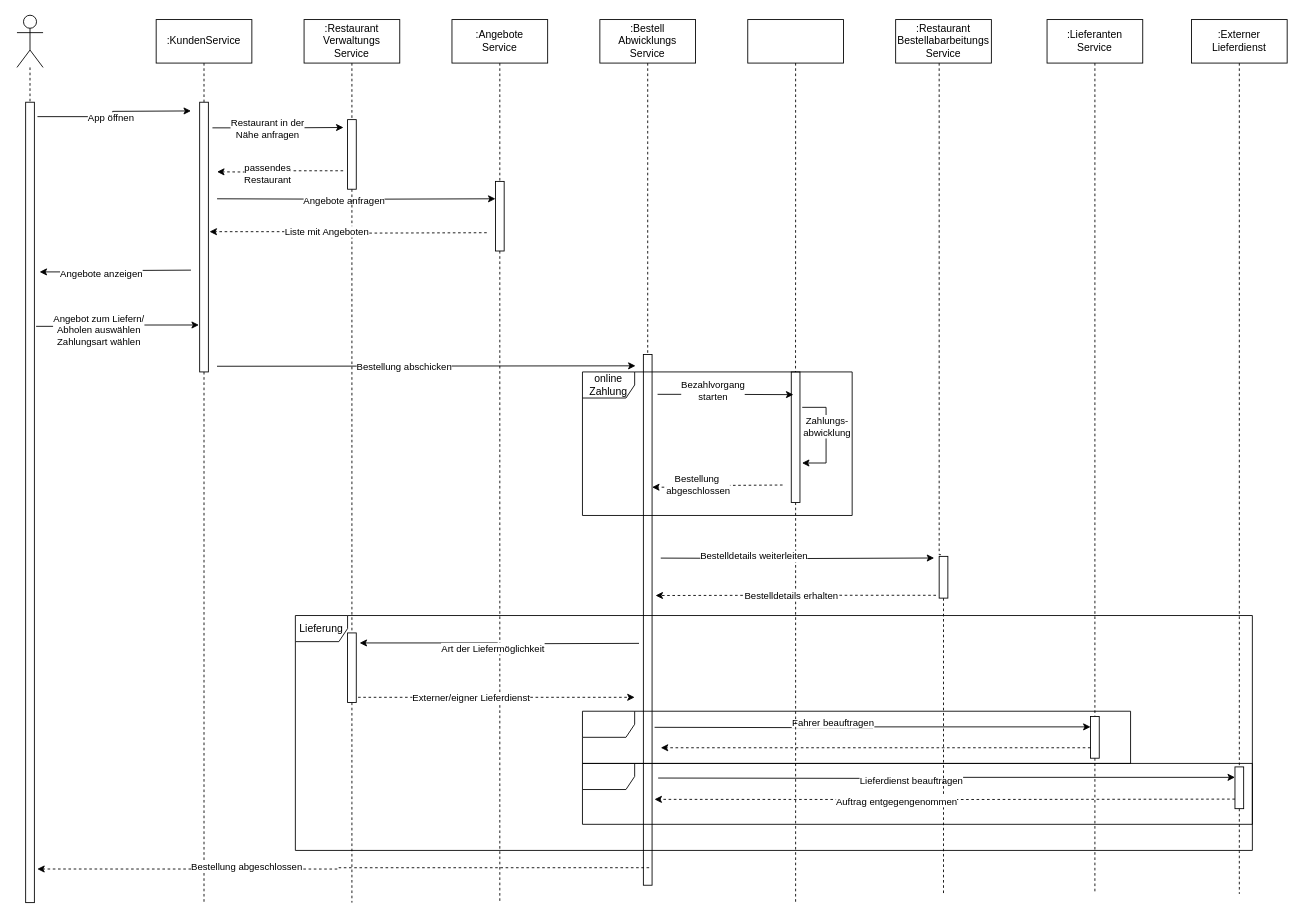
This 1302x919 diagram has some shape labels left out. The shapes that lost their labels are listed below. From the top down, each one's centre as x and y in pixels, then its label:
the point at 29,40: Kunde
the point at 795,41: :Abrechnungs- systeme
the point at 856,736: eigener Fahrer
the point at 917,793: externer Dienst
